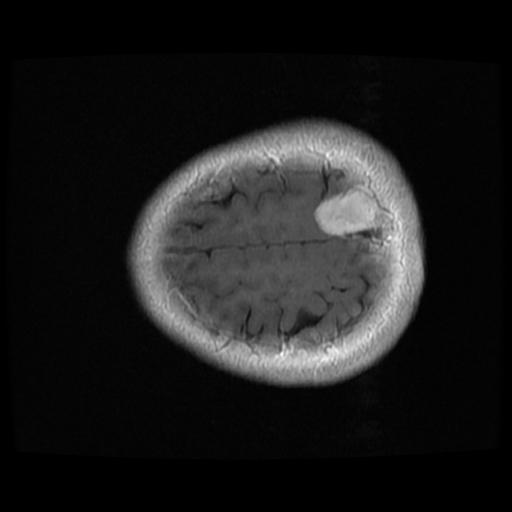meningioma: (312, 188, 379, 237)
